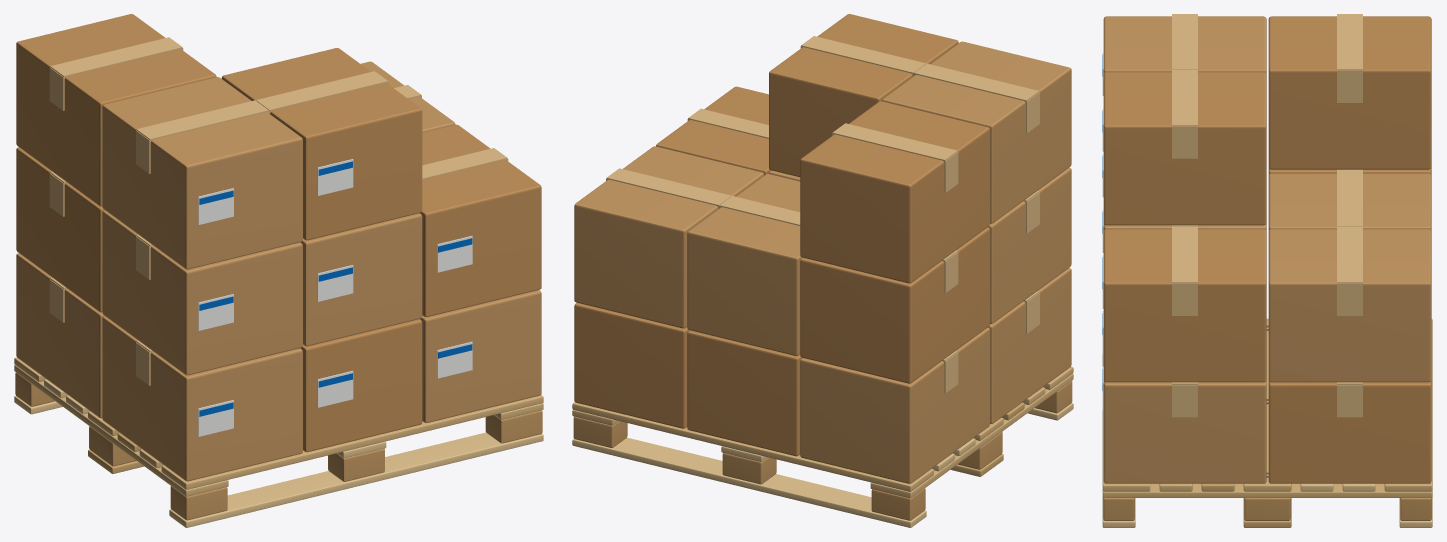
The model's file is pallet_load_partial.glb.
The picture shows the model from 3 angles, left to right: view 1: azimuth 30°, elevation 25°; view 2: azimuth 150°, elevation 25°; view 3: azimuth 270°, elevation 25°; orthographic projection. The views are drawn at different scales.
Parts seen in each view (by area): view 1: load_geo, pallet_geo; view 2: load_geo, pallet_geo; view 3: load_geo, pallet_geo.
Boxes of the visible parts, left/top/right/bottom form: load_geo: left=16, top=14, right=541, bottom=481; pallet_geo: left=14, top=357, right=543, bottom=527; load_geo: left=574, top=14, right=1071, bottom=483; pallet_geo: left=572, top=366, right=1073, bottom=527; load_geo: left=1102, top=14, right=1431, bottom=483; pallet_geo: left=1102, top=318, right=1432, bottom=527.
Size of the model in its own units: 1.2 by 1.16 by 1.
